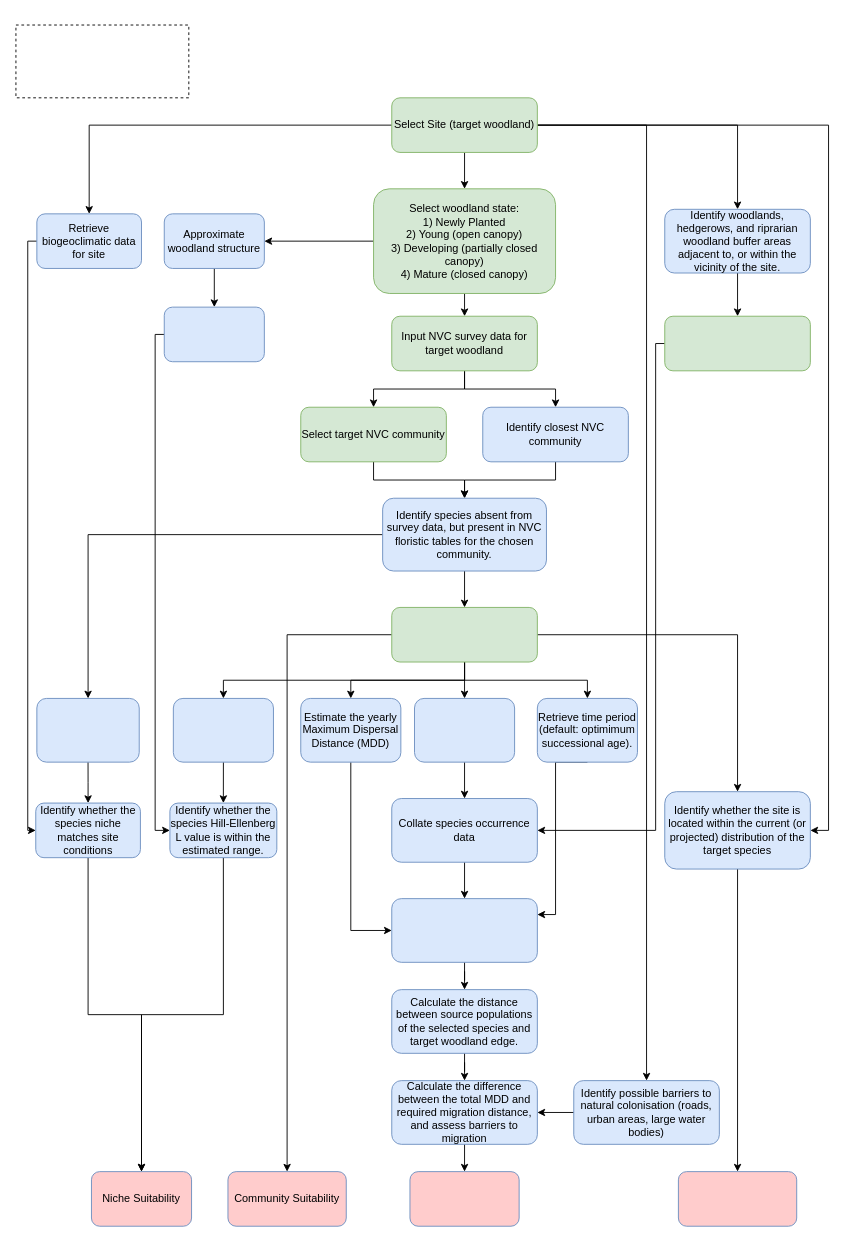
Image size: 852x1242. Some labels were removed from this diagram. The centre of each missing label's shape, as x and y in pixels:
Assign Hill-Ellenberg L score range: (213,334)
Distribution Suitability: (737,1198)
Estimate the total MDD over a given time period.: (464,930)
Input species occurrence data.: (737,343)
Migration Probability: (464,1198)
Retrieve selected species Hill-Ellenberg L score: (222,730)
Retrieve selected species niche models: (87,730)
Retrieve species occurrence data: (464,730)
Select target species for analysis: (464,634)
User Input Analysis Process Output: (102,61)
